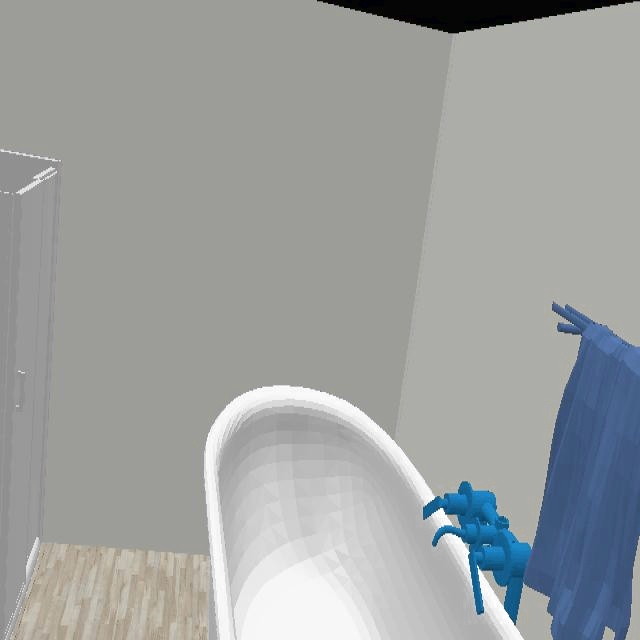bathtube: (203, 385, 531, 640)
shower: (0, 149, 62, 640)
